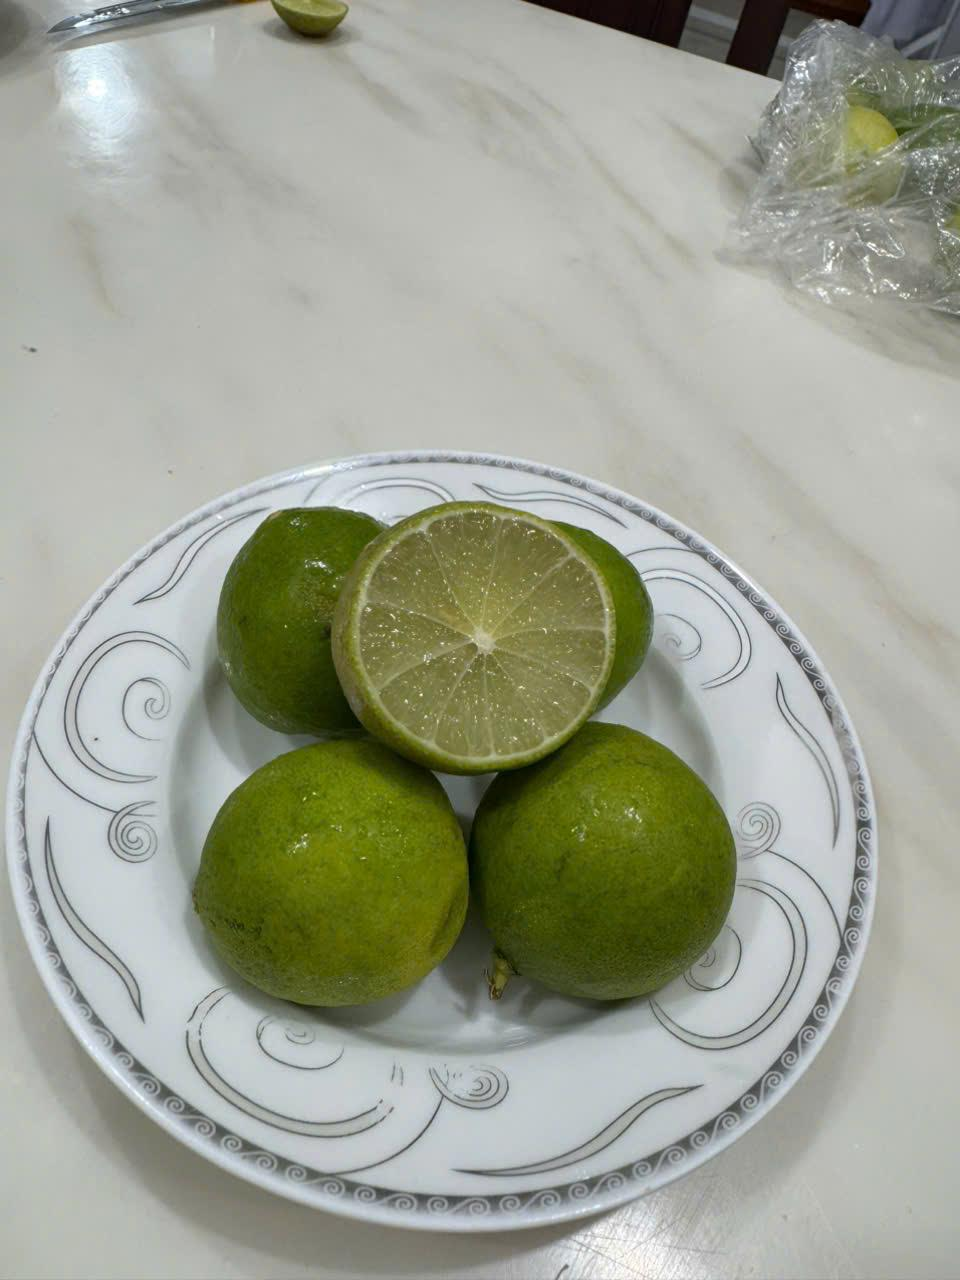lime: (186, 728, 472, 1042), (318, 494, 618, 781), (482, 726, 738, 1000), (198, 486, 333, 750)
